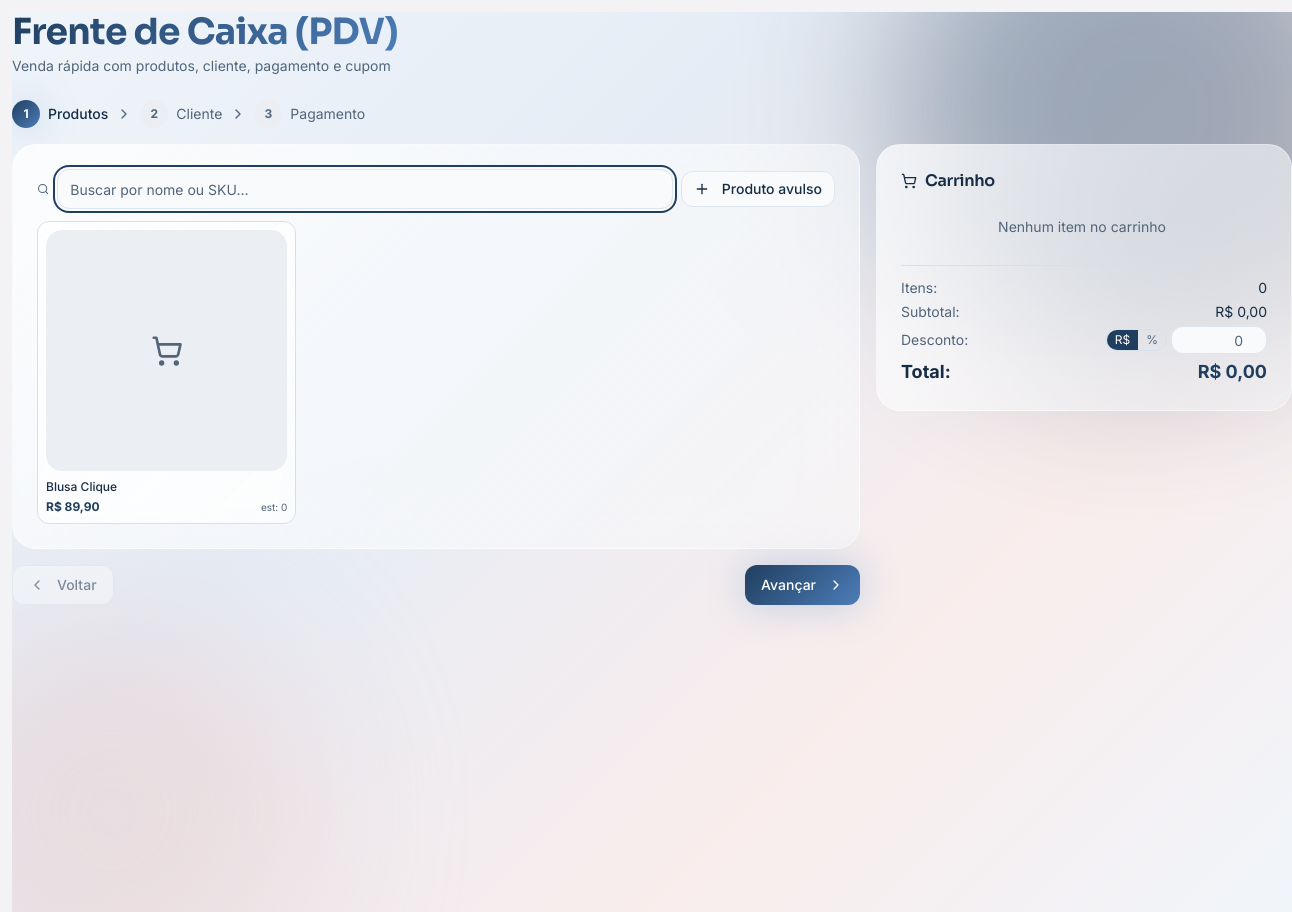
Test: PDV — venda na carteira até o banco › venda do começo ao fim clicando: produto → carrinho → cliente → dinheiro
The image size is (1292, 912).
Later steps or results of the test are not shown.
Click the button "Blusa Clique R$ 89,90 est: 0".
click(167, 373)  # box [37, 221, 296, 524]
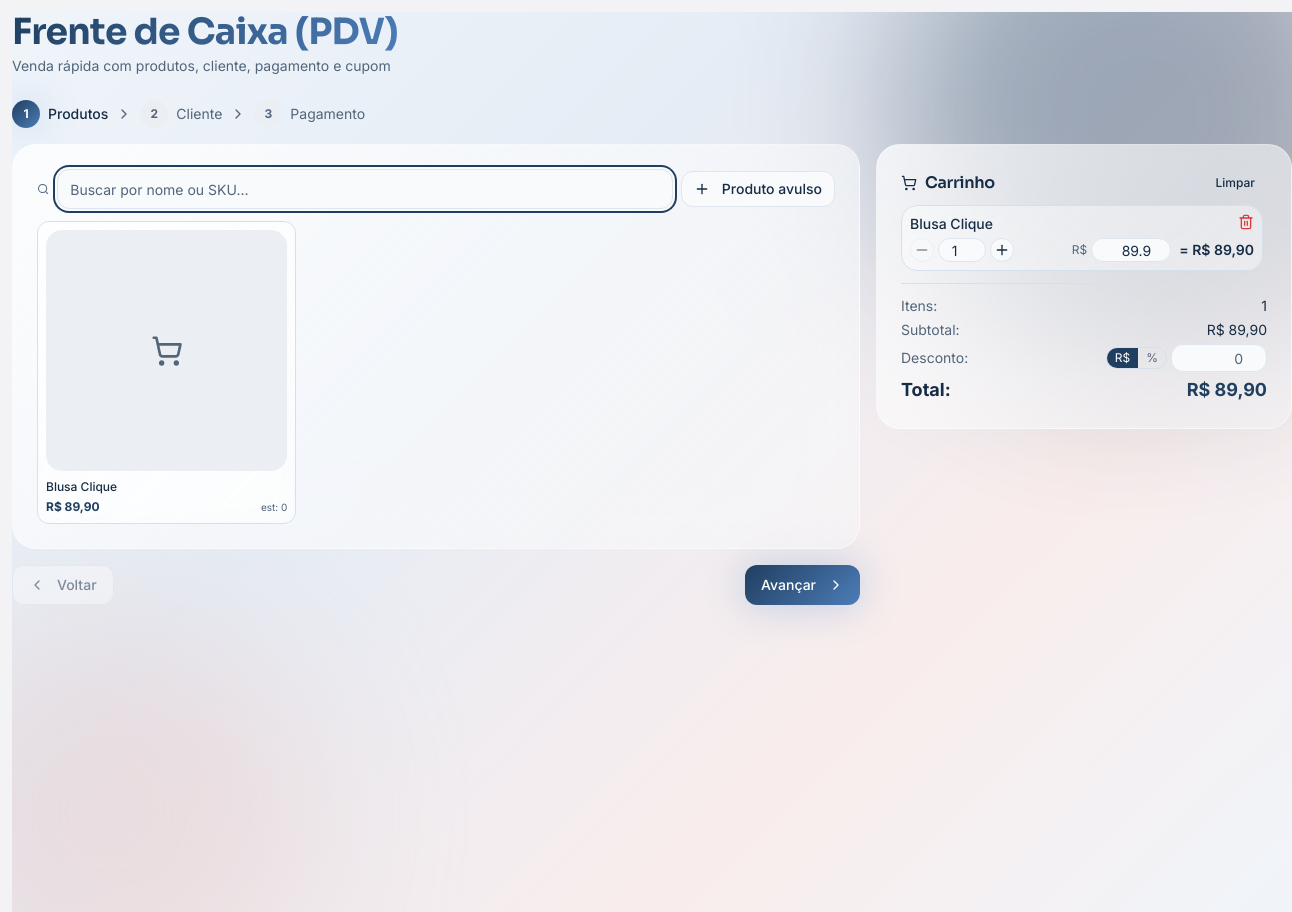
Check: the text "= R$ 89,90" is shown, box [1179, 240, 1254, 260]
Click the button "Avançar".
click(803, 585)  # box [745, 565, 860, 605]
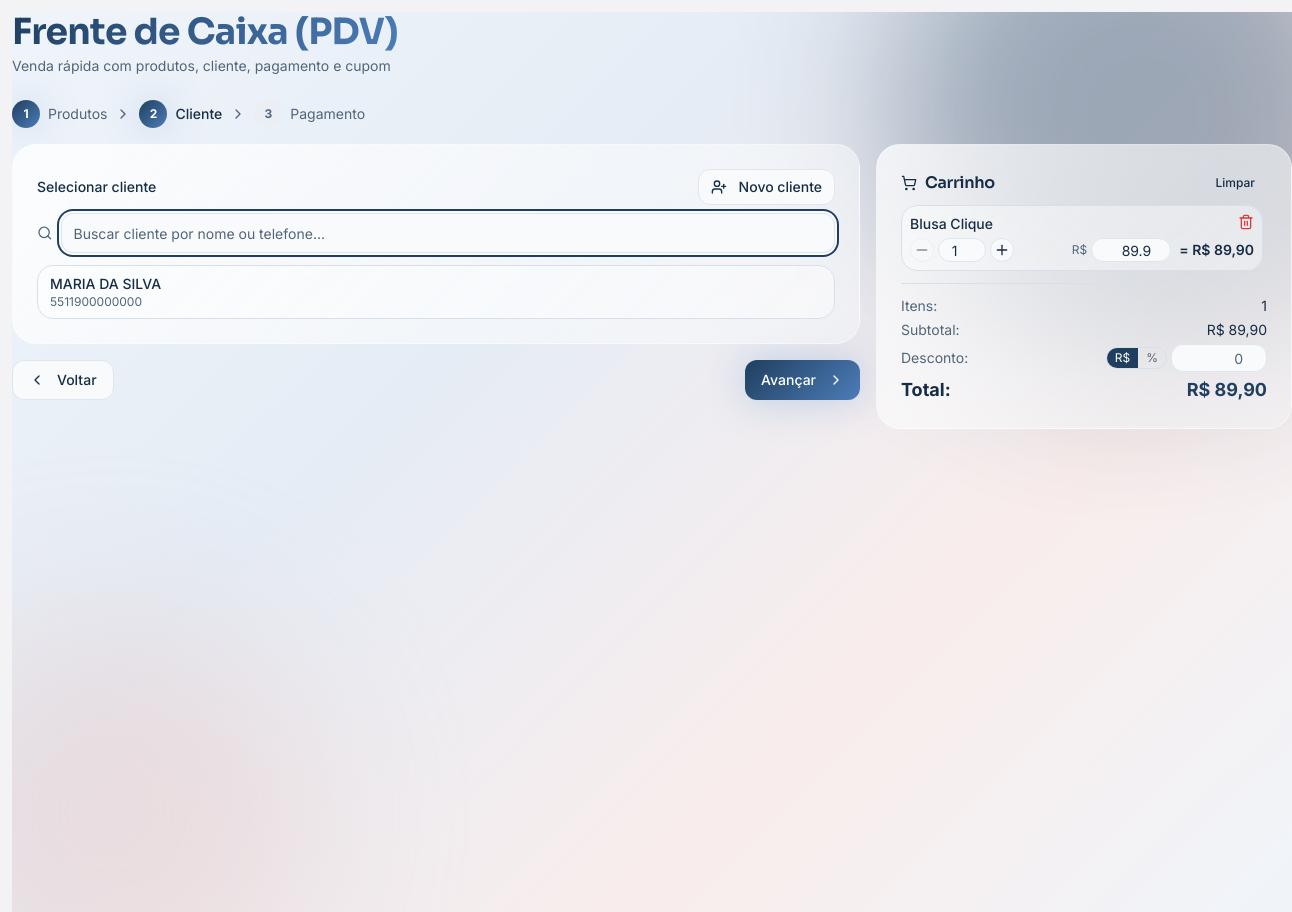
Click the button "MARIA DA SILVA 5511900000000".
click(106, 284)  # box [37, 265, 835, 319]
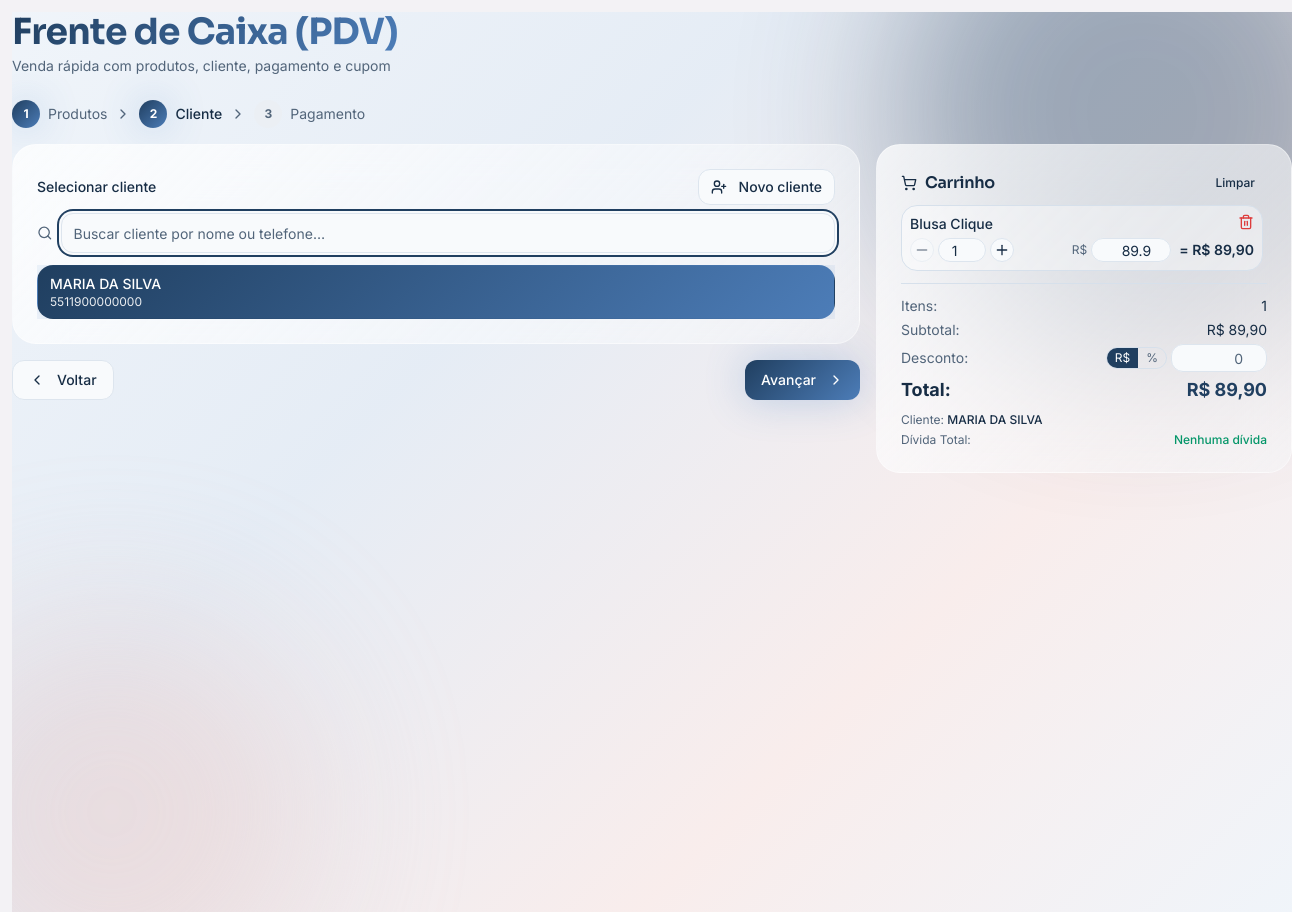
Check: the text "Nenhuma dívida" is shown, box [1174, 432, 1267, 448]
Click the button "Avançar".
click(803, 380)  # box [745, 360, 860, 400]
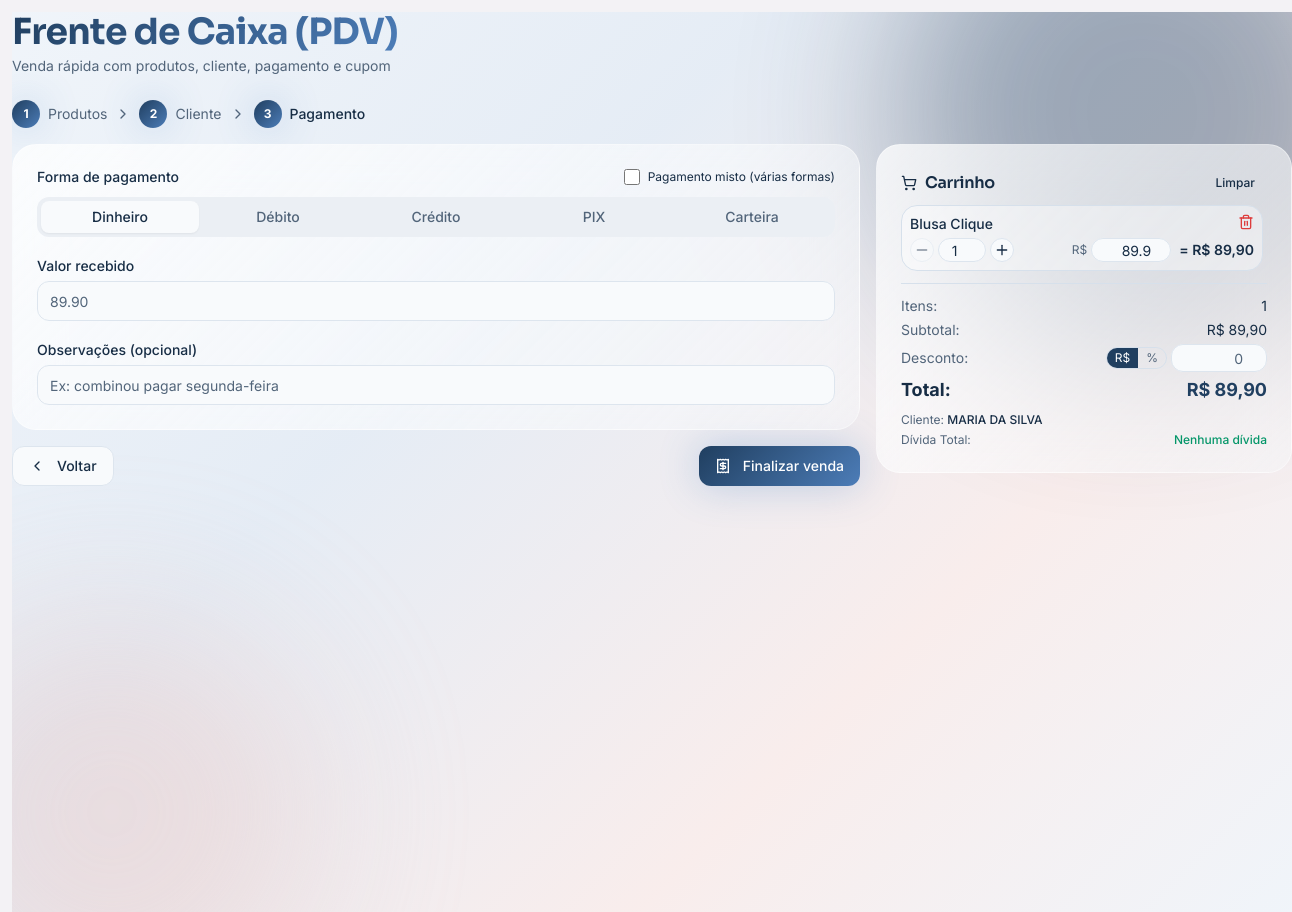
Check: the text "Forma de pagamento" is shown, box [37, 170, 179, 184]
